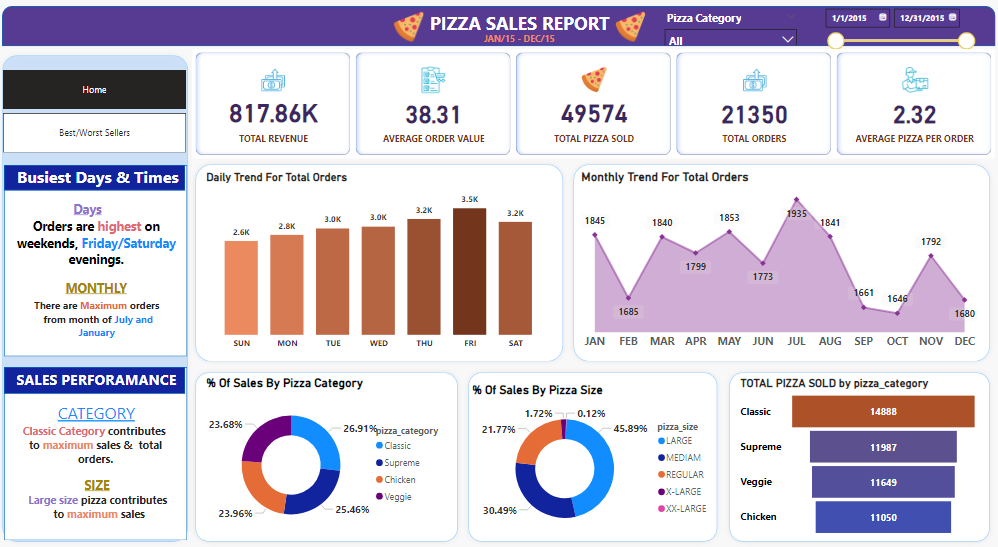

The dashboard page shown, as its layout file describes it:
{"tool":"powerbi","page":{"name":"Home","canvas":[1500,820],"ordinal":0},"visuals":[{"type":"cardVisual","fields":{"Data":["pizza_sales.TOTAL REVENUE","pizza_sales.AVERAGE ORDER VALUE","pizza_sales.TOTAL PIZZA SOLD","pizza_sales.TOTAL ORDERS","pizza_sales.AVERAGE PIZZA PER ORDER"]},"box":[292.6,77.9,1197.1,163.2],"z":0},{"type":"shape","box":[8.8,13.8,1481.2,60],"z":1000},{"type":"textbox","box":[631.2,15,300,51.2],"z":2000},{"type":"image","box":[587.5,16.2,56.2,56.2],"z":3000},{"type":"textbox","box":[708.8,47.5,143.8,30],"z":4000},{"type":"shape","box":[288.6,241.4,564.3,310],"z":5000},{"type":"image","box":[916.2,16.2,57.4,55.9],"z":6000},{"type":"columnChart","title":"Daily Trend For Total Orders","fields":{"Category":["pizza_sales.order day"],"Y":["pizza_sales.TOTAL ORDERS"]},"box":[308.6,258.6,524.3,275.7],"z":7000},{"type":"shape","box":[852.9,241.4,637.1,310],"z":8000},{"type":"areaChart","title":"Monthly Trend For Total Orders","fields":{"Category":["pizza_sales.Order Month"],"Y":["pizza_sales.TOTAL ORDERS"]},"box":[867.1,258.6,601.4,275.7],"z":9000},{"type":"shape","box":[288.6,551.4,407.1,268.6],"z":10000},{"type":"shape","box":[695.7,551.4,387.1,268.6],"z":11000},{"type":"shape","box":[1085.7,551.4,404.3,268.6],"z":12000},{"type":"donutChart","title":"% Of Sales By Pizza Category","fields":{"Category":["pizza_sales.pizza_category"],"Y":["pizza_sales.TOTAL REVENUE"]},"box":[308.6,565.7,371.4,244.3],"z":13000},{"type":"donutChart","title":"% Of Sales By Pizza Size","fields":{"Y":["pizza_sales.TOTAL REVENUE"],"Category":["pizza_sales.pizza_size"]},"box":[705.7,575.7,368.6,234.3],"z":14000},{"type":"funnel","fields":{"Category":["pizza_sales.pizza_category"],"Y":["pizza_sales.TOTAL PIZZA SOLD"]},"box":[1104.3,565.7,364.3,244.3],"z":15000},{"type":"shape","box":[1.4,78.6,292.9,741.4],"z":16000},{"type":"shape","box":[11.5,250,273.1,285.4],"z":17000},{"type":"shape","box":[11.5,551.5,273.1,258.5],"z":18000},{"type":"shape","box":[11.4,250,270,37.9],"z":19000},{"type":"shape","box":[11.5,551.5,270,40],"z":20000},{"type":"textbox","box":[15.4,245.4,273.8,49.2],"z":21000},{"type":"textbox","box":[110,298.5,78.5,60],"z":22000},{"type":"textbox","box":[18.5,323.1,263.1,88.5],"z":23000},{"type":"textbox","box":[11.5,415.4,274.6,36.9],"z":24000},{"type":"textbox","box":[11.5,444.6,276.2,77.7],"z":25000},{"type":"textbox","box":[15.4,550.8,269.2,44.6],"z":26000},{"type":"textbox","box":[18.5,598.5,263.1,43.1],"z":27000},{"type":"textbox","box":[10,630.8,271.5,76.9],"z":28000},{"type":"textbox","box":[126.9,710,60,40],"z":29000},{"type":"textbox","box":[15.4,733.8,273.1,56.9],"z":30000},{"type":"slicer","fields":{"Values":["pizza_sales.pizza_category"]},"box":[987.1,15.7,217.1,58.6],"z":31000},{"type":"slicer","fields":{"Values":["pizza_sales.order_date"]},"box":[1227.1,11.4,241.4,67.1],"z":32000},{"type":"pageNavigator","box":[10.6,108.8,273.1,58.8],"z":33000},{"type":"pageNavigator","box":[10.6,172.5,273.1,59.4],"z":34000}]}

Visuals, with their boxes in screenshot pixels (x1, y1, x2, y2), scaled from the page's 1500x820 canvas onto the 998x547 screenshot:
cardVisual - pizza_sales.TOTAL REVENUE x pizza_sales.AVERAGE ORDER VALUE: (x1=195, y1=52, x2=991, y2=161)
shape: (x1=6, y1=9, x2=991, y2=49)
textbox: (x1=420, y1=10, x2=620, y2=44)
image: (x1=391, y1=11, x2=428, y2=48)
textbox: (x1=472, y1=32, x2=567, y2=52)
shape: (x1=192, y1=161, x2=567, y2=368)
image: (x1=610, y1=11, x2=648, y2=48)
"Daily Trend For Total Orders" columnChart: (x1=205, y1=173, x2=554, y2=356)
shape: (x1=567, y1=161, x2=991, y2=368)
"Monthly Trend For Total Orders" areaChart: (x1=577, y1=173, x2=977, y2=356)
shape: (x1=192, y1=368, x2=463, y2=546)
shape: (x1=463, y1=368, x2=720, y2=546)
shape: (x1=722, y1=368, x2=991, y2=546)
"% Of Sales By Pizza Category" donutChart: (x1=205, y1=377, x2=452, y2=540)
"% Of Sales By Pizza Size" donutChart: (x1=470, y1=384, x2=715, y2=540)
funnel - pizza_sales.pizza_category x pizza_sales.TOTAL PIZZA SOLD: (x1=735, y1=377, x2=977, y2=540)
shape: (x1=1, y1=52, x2=196, y2=546)
shape: (x1=8, y1=167, x2=189, y2=357)
shape: (x1=8, y1=368, x2=189, y2=540)
shape: (x1=8, y1=167, x2=187, y2=192)
shape: (x1=8, y1=368, x2=187, y2=395)
textbox: (x1=10, y1=164, x2=192, y2=197)
textbox: (x1=73, y1=199, x2=125, y2=239)
textbox: (x1=12, y1=216, x2=187, y2=275)
textbox: (x1=8, y1=277, x2=190, y2=302)
textbox: (x1=8, y1=297, x2=191, y2=348)
textbox: (x1=10, y1=367, x2=189, y2=397)
textbox: (x1=12, y1=399, x2=187, y2=428)
textbox: (x1=7, y1=421, x2=187, y2=472)
textbox: (x1=84, y1=474, x2=124, y2=500)
textbox: (x1=10, y1=489, x2=192, y2=527)
slicer - pizza_sales.pizza_category: (x1=657, y1=10, x2=801, y2=50)
slicer - pizza_sales.order_date: (x1=816, y1=8, x2=977, y2=52)
pageNavigator: (x1=7, y1=73, x2=189, y2=112)
pageNavigator: (x1=7, y1=115, x2=189, y2=155)
